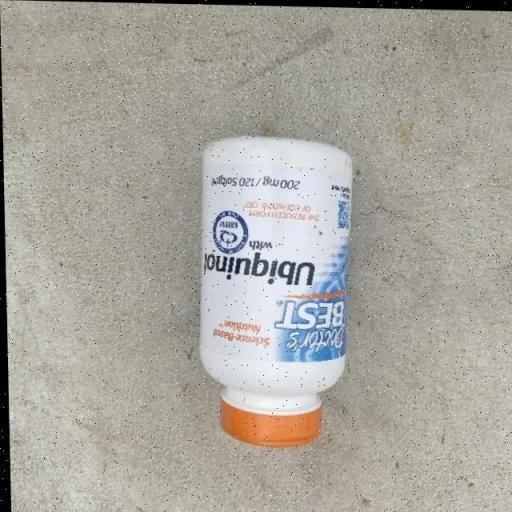plastic: (192, 132, 358, 446)
